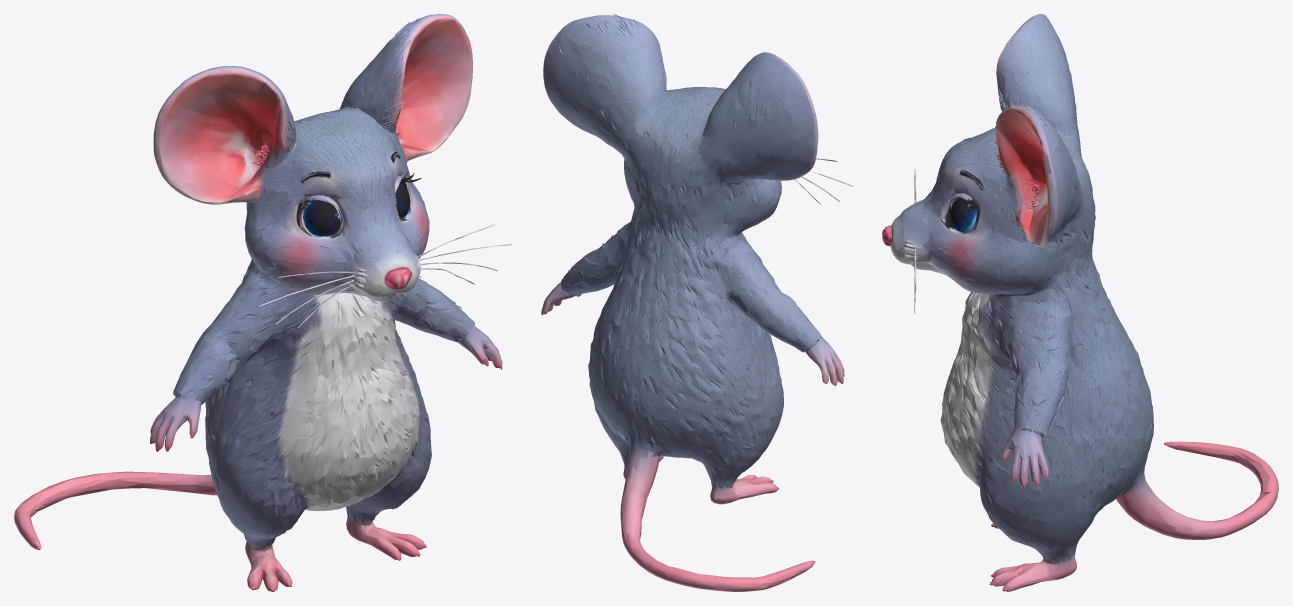
Rendered from posy-the-petal-mouse-v1.glb.
3 renders of one model, left to right at view 1: azimuth 30°, elevation 25°; view 2: azimuth 150°, elevation 25°; view 3: azimuth 270°, elevation 25°, orthographic. The views are drawn at different scales.
Bounding box in the file's own units: 1.49 × 1.9 × 1.39.
1 material, 1 textured.
